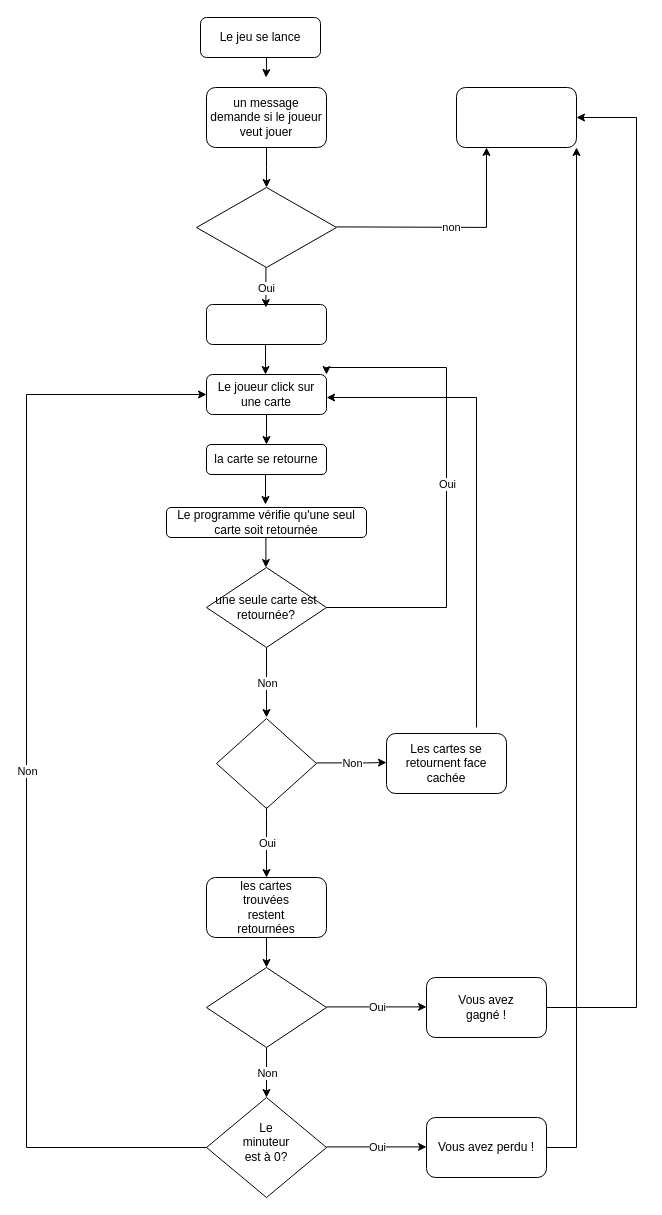
This 662x1215 diagram has some shape labels left out. Each missing label, with the box of its shape:
Le jeu s'arrète: (456, 86, 576, 148)
Les cartes s'affichent face cachée: (206, 304, 326, 344)
les cartes sont identiques: (216, 718, 316, 808)
On joue?: (196, 186, 336, 268)
Toutes les cartes sont retournées?: (206, 966, 326, 1048)
